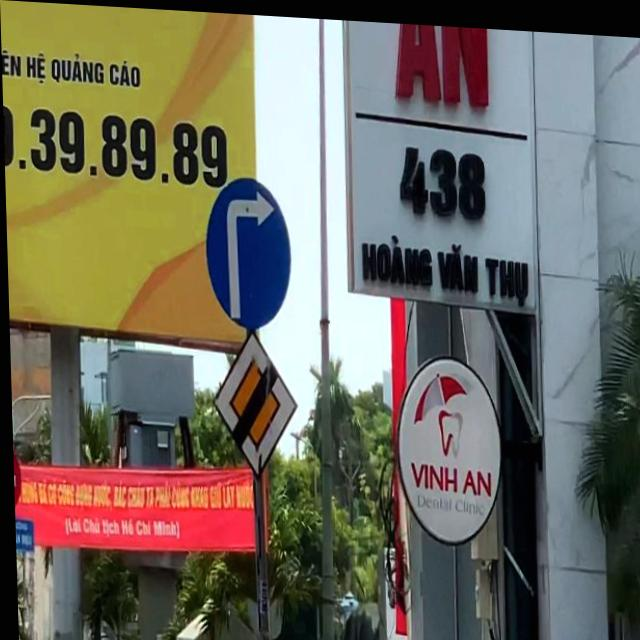Cac xe chi duoc re phai: (202, 171, 291, 330)
